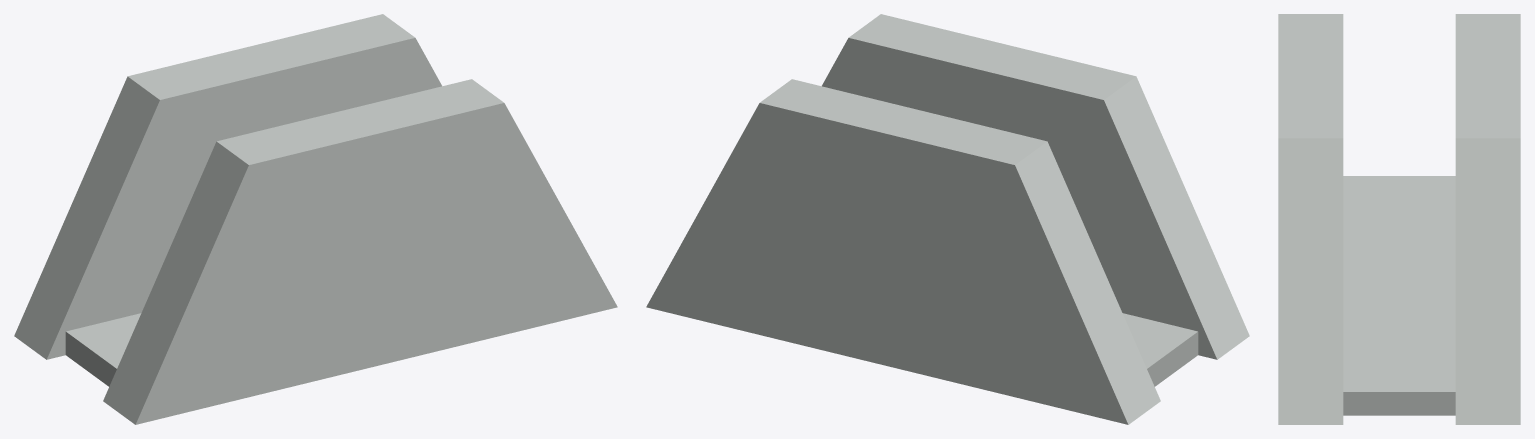
The model's file is lever_bottom.glb.
The picture shows the model from 3 angles, left to right: view 1: azimuth 30°, elevation 25°; view 2: azimuth 150°, elevation 25°; view 3: azimuth 270°, elevation 25°; orthographic projection.
Parts seen in each view (by area): view 1: Cube; view 2: Cube; view 3: Cube.
Boxes of the visible parts, bbox=[...] form: Cube: bbox=[14, 14, 617, 424]; Cube: bbox=[646, 14, 1249, 424]; Cube: bbox=[1278, 14, 1520, 424].
Size of the model in its own units: 0.4071 by 0.1872 by 0.1775.
Materials: 1 (1 with a texture image).
